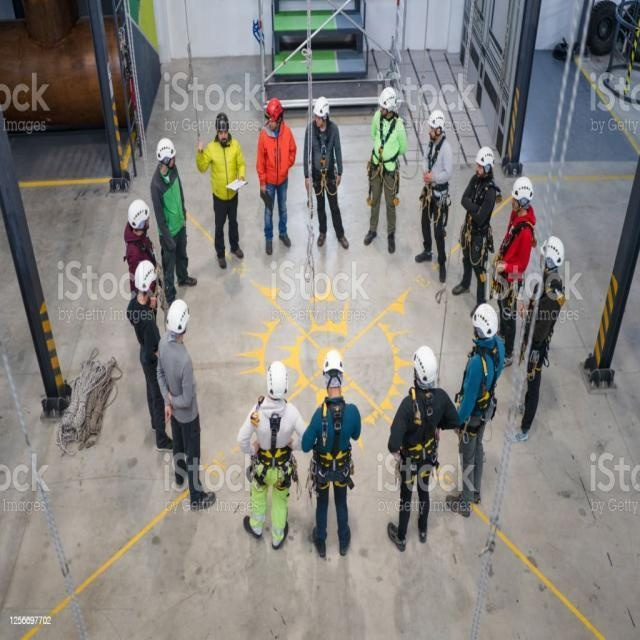Arnes_seguridad: (486, 206, 538, 323), (393, 380, 447, 485), (248, 391, 302, 496), (523, 272, 568, 392), (456, 339, 506, 444), (305, 397, 356, 498), (459, 174, 499, 274), (302, 116, 343, 200), (417, 135, 453, 228), (366, 112, 407, 192), (123, 235, 164, 295)
